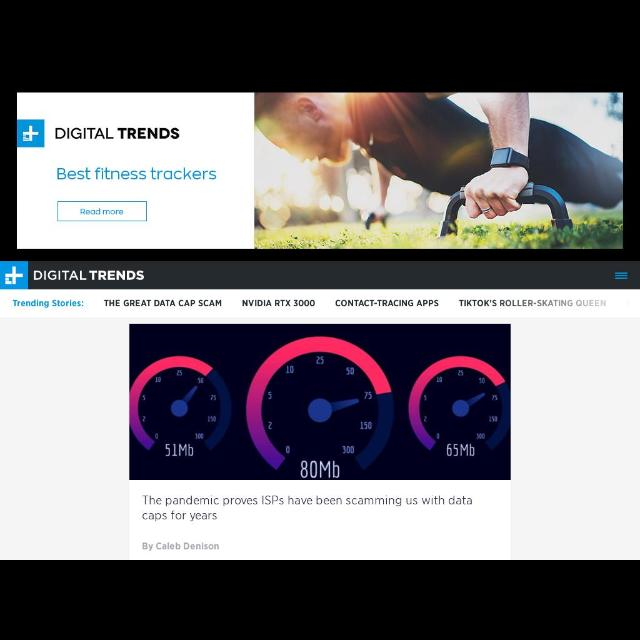button: (2, 262, 28, 290)
icon: (6, 266, 24, 284), (615, 272, 629, 280)
iframe: (1, 80, 639, 262)
image: (130, 323, 510, 479)
multitab: (1, 290, 639, 318)
text: (142, 495, 472, 523), (460, 299, 608, 309), (34, 270, 144, 282), (103, 298, 221, 308), (13, 298, 85, 310), (334, 300, 440, 308), (242, 298, 316, 308), (140, 542, 220, 550)
toolbar: (1, 264, 639, 290)
